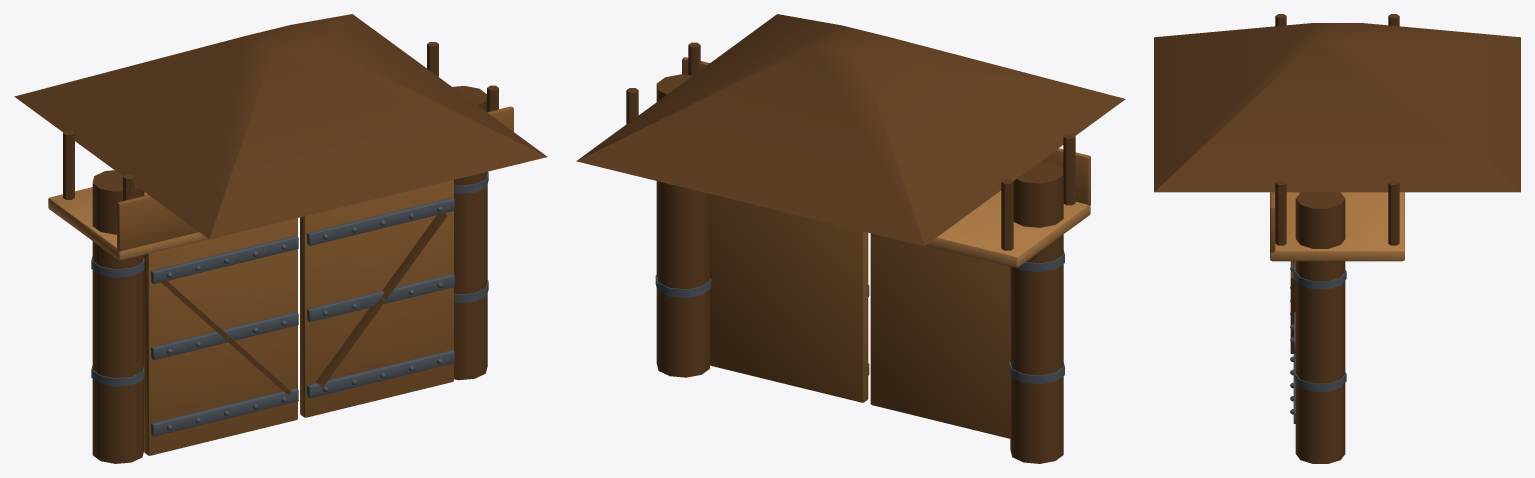
The model's file is brama_2.glb.
The picture shows the model from 3 angles, left to right: view 1: azimuth 30°, elevation 25°; view 2: azimuth 150°, elevation 25°; view 3: azimuth 270°, elevation 25°; orthographic projection. The views are drawn at different scales.
Visible parts, largest first — view 1: brama_2; view 2: brama_2; view 3: brama_2.
Boxes of the visible parts, left/top/right/bottom form: brama_2: left=14, top=14, right=547, bottom=463; brama_2: left=576, top=14, right=1125, bottom=463; brama_2: left=1154, top=14, right=1520, bottom=463.
Size of the model in its own units: 7.6 by 6.7 by 6.51.
